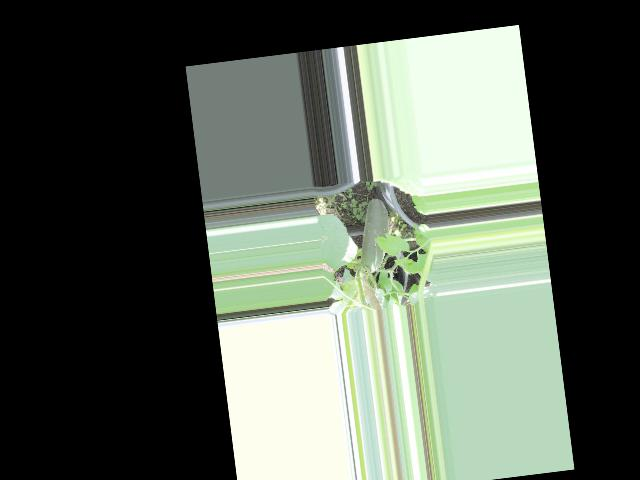cucumber: (353, 197, 394, 273)
